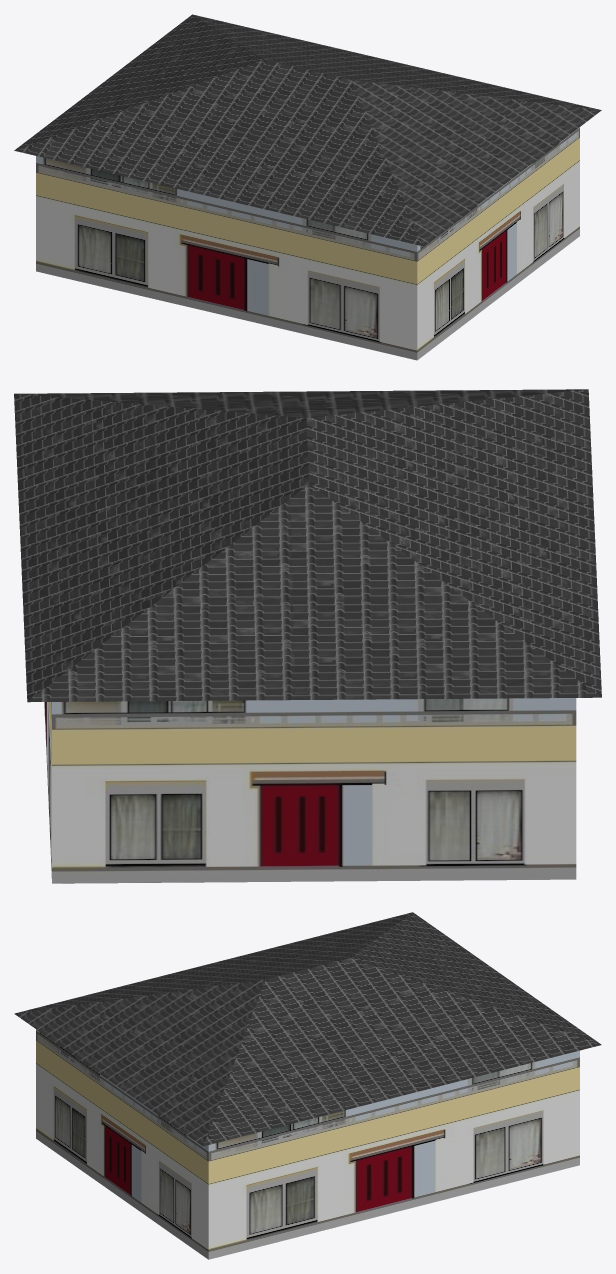
3 views of the same model, one above another, from view 1: azimuth 30°, elevation 25°; view 2: azimuth 150°, elevation 25°; view 3: azimuth 270°, elevation 25° (orthographic). The views are drawn at different scales.
Visible parts, largest first — view 1: CityEngineMaterial_16_m, CityEngineMaterial_15_m; view 2: CityEngineMaterial_16_m, CityEngineMaterial_15_m; view 3: CityEngineMaterial_16_m, CityEngineMaterial_15_m.
Part boxes in pixels (bbox=[...]): CityEngineMaterial_16_m: bbox=[14, 14, 601, 246]; CityEngineMaterial_15_m: bbox=[36, 127, 579, 360]; CityEngineMaterial_16_m: bbox=[14, 389, 601, 702]; CityEngineMaterial_15_m: bbox=[44, 698, 576, 883]; CityEngineMaterial_16_m: bbox=[14, 912, 601, 1146]; CityEngineMaterial_15_m: bbox=[36, 1029, 579, 1259].
Size of the model in its own units: 32.4 by 11.81 by 34.38.
